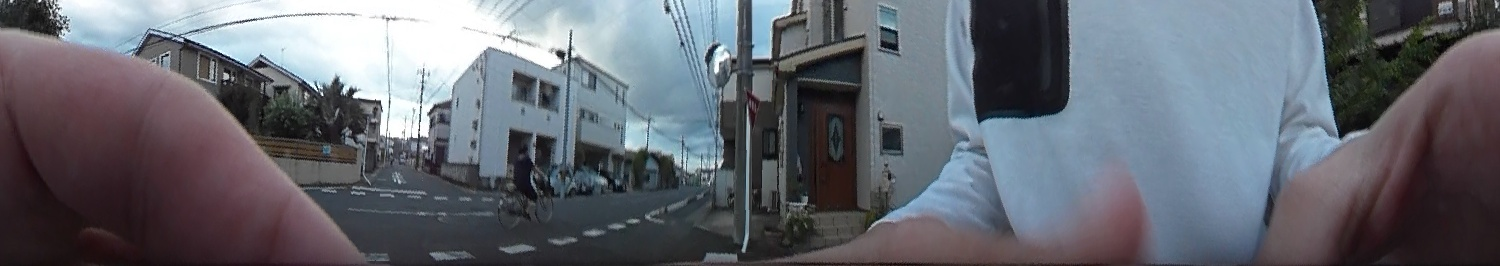person: (511, 141, 537, 218)
